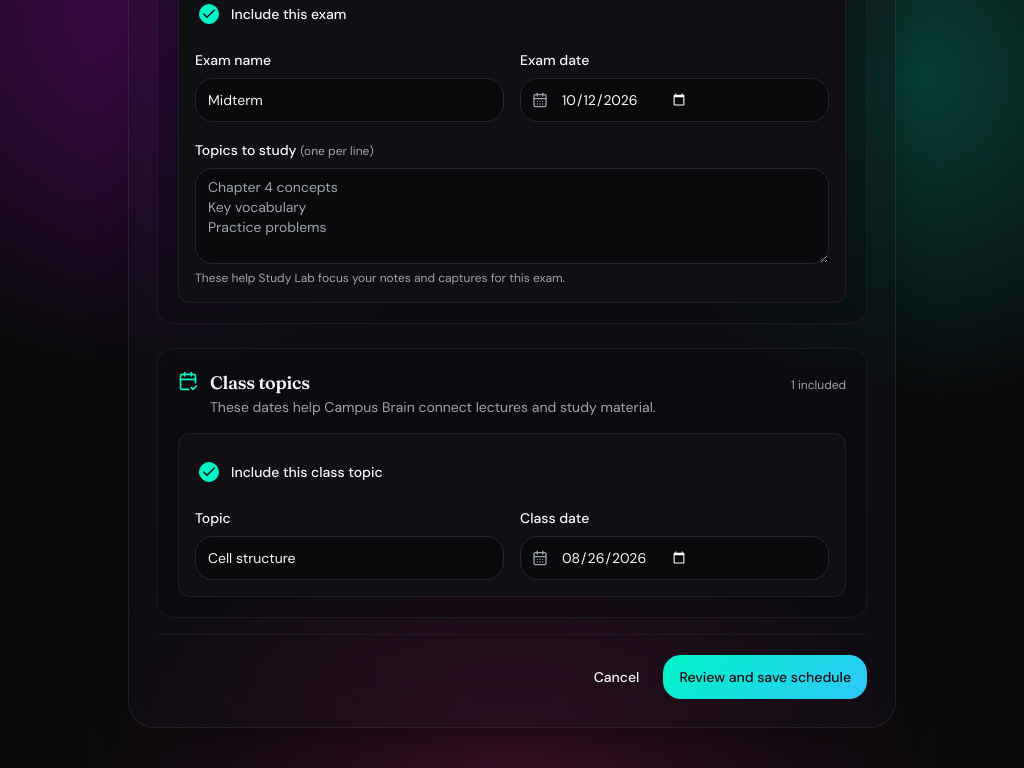
Scenario: ClassSyllabusPage › treats a separate class schedule as additive planning data
Earlier steps of the test are not shown.
(page scrolled)
Step 1. Click the button "Review and save schedule" → (765, 677), box [663,655,867,699]
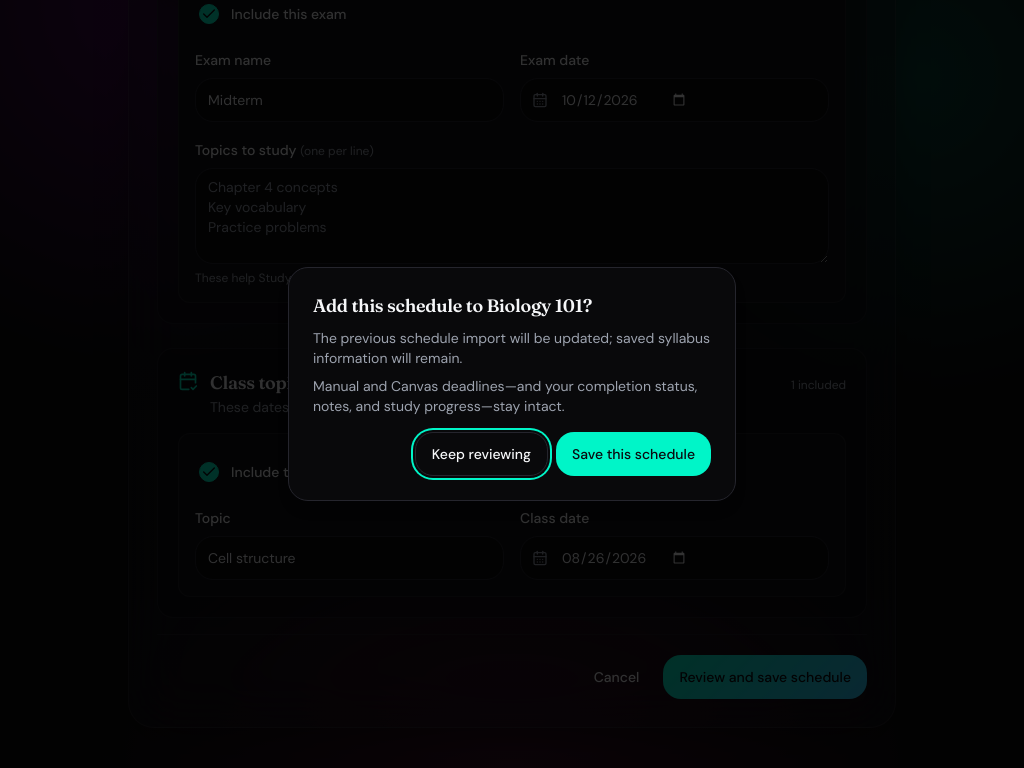
Check: the text "saved syllabus information will remain" is shown, box [313,329,710,367]
Step 2. Click the button "Save this schedule" → (634, 454), box [556,432,711,476]
(page scrolled)
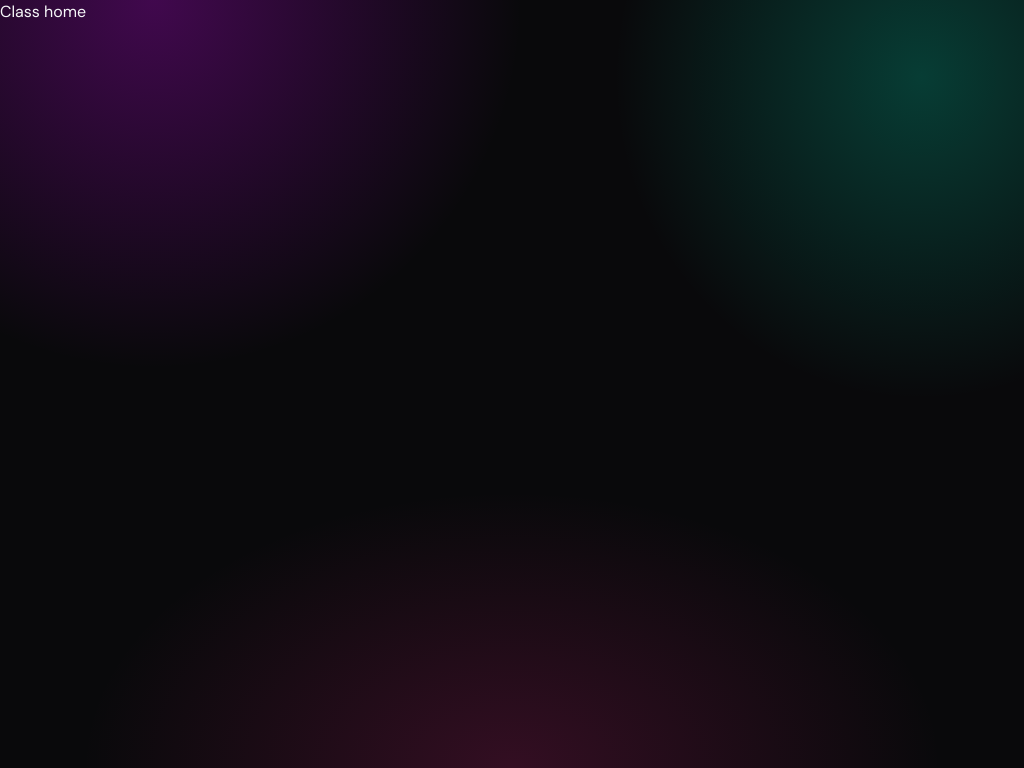
Check: the text "Class home" is shown, box [0,1,86,22]
